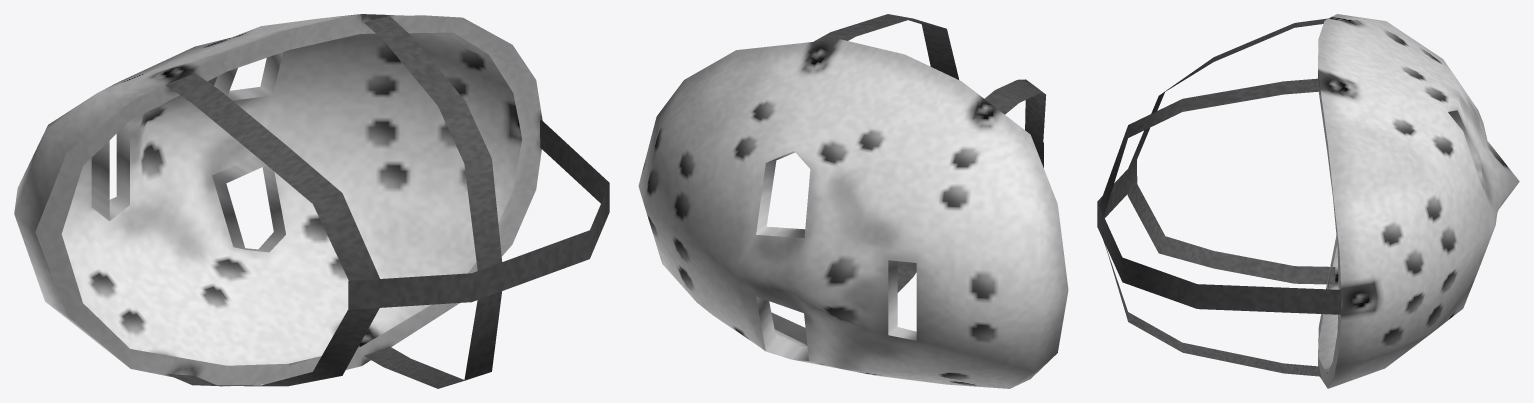
File: M_HockeyMask.fbx
3 views of the same model, side by side, from view 1: azimuth 30°, elevation 25°; view 2: azimuth 150°, elevation 25°; view 3: azimuth 270°, elevation 25° (orthographic). The views are drawn at different scales.
Visible parts, largest first — view 1: M_HockeyMask; view 2: M_HockeyMask; view 3: M_HockeyMask.
Boxes of the visible parts, bbox=[...] form: M_HockeyMask: bbox=[14, 14, 609, 388]; M_HockeyMask: bbox=[638, 14, 1068, 388]; M_HockeyMask: bbox=[1097, 14, 1519, 388].
Size of the model in its own units: 0.1797 by 0.1252 by 0.1573.
